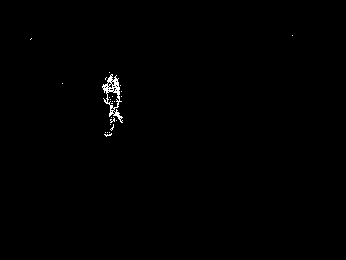person: (102, 73, 124, 141)
